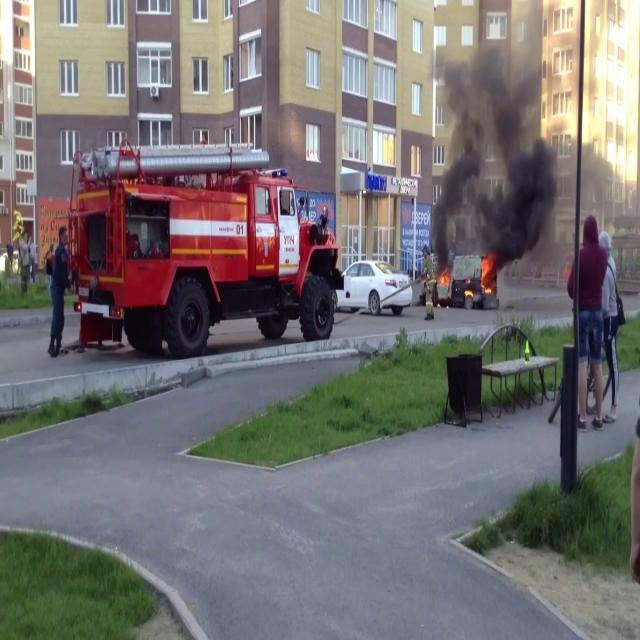Fire: (479, 252, 496, 296), (435, 268, 452, 292)
Smoke: (428, 9, 562, 276)
